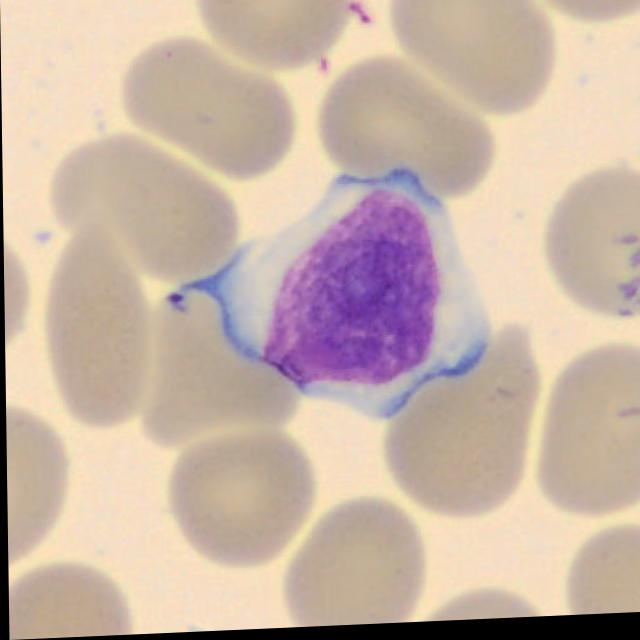Linfocito atipico: (169, 169, 491, 423)
